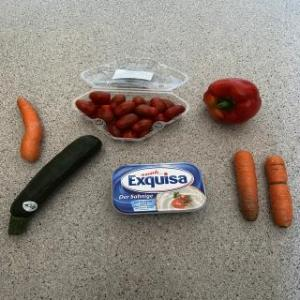bell_pepper: (199, 73, 266, 132)
carrot: (260, 152, 300, 232), (228, 147, 266, 225), (8, 93, 46, 165)
tomato: (115, 112, 141, 130), (112, 101, 136, 117), (74, 100, 96, 116), (164, 104, 186, 120), (108, 94, 128, 110), (99, 104, 115, 124), (134, 103, 158, 116), (88, 90, 110, 103), (132, 118, 152, 132), (150, 96, 166, 113), (132, 97, 144, 108)
zucchini: (4, 130, 106, 242)
